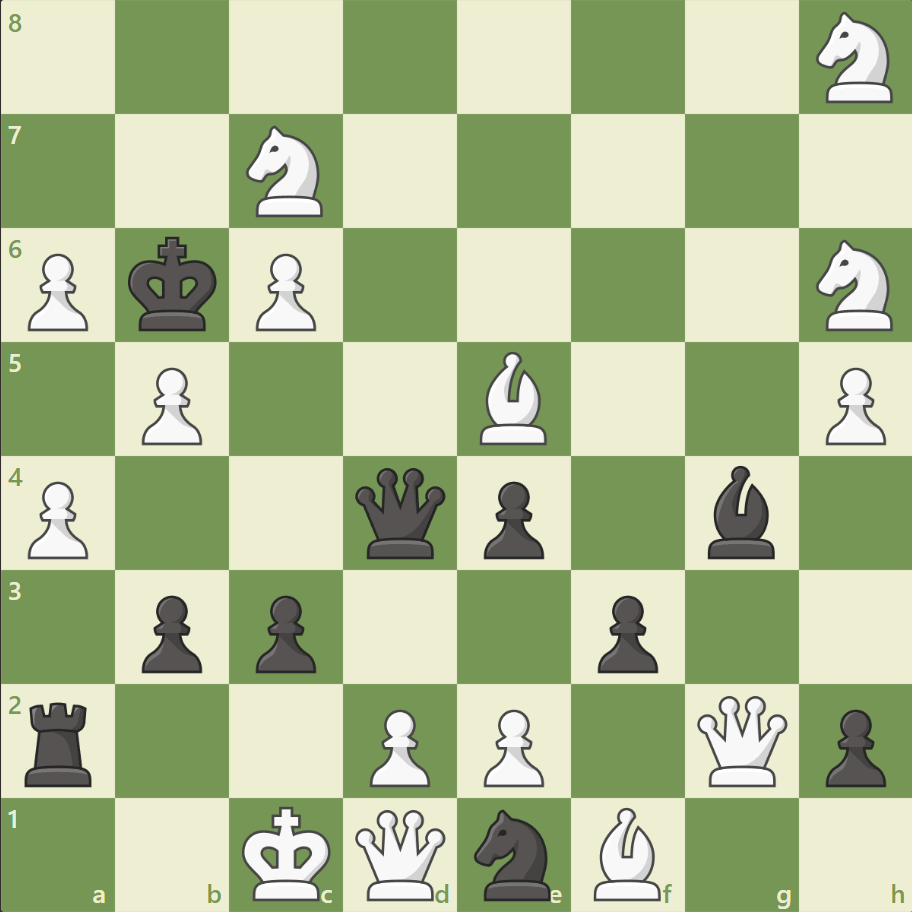B: (585, 801, 669, 904), (471, 347, 555, 449)
K: (238, 798, 338, 906)
N: (806, 7, 903, 110), (806, 234, 903, 337), (238, 121, 335, 223)
P: (20, 246, 95, 337), (247, 246, 322, 337), (133, 359, 208, 450), (20, 473, 95, 564), (474, 700, 549, 791), (815, 359, 889, 450), (361, 700, 435, 791)
Q: (691, 690, 790, 789), (351, 804, 450, 903)
b: (698, 460, 782, 563)
k: (124, 231, 224, 339)
n: (465, 802, 562, 904)
p: (474, 473, 549, 564), (133, 586, 208, 677), (247, 586, 322, 677), (588, 586, 662, 677), (815, 700, 889, 791)
q: (351, 463, 450, 562)
r: (19, 693, 102, 790)
